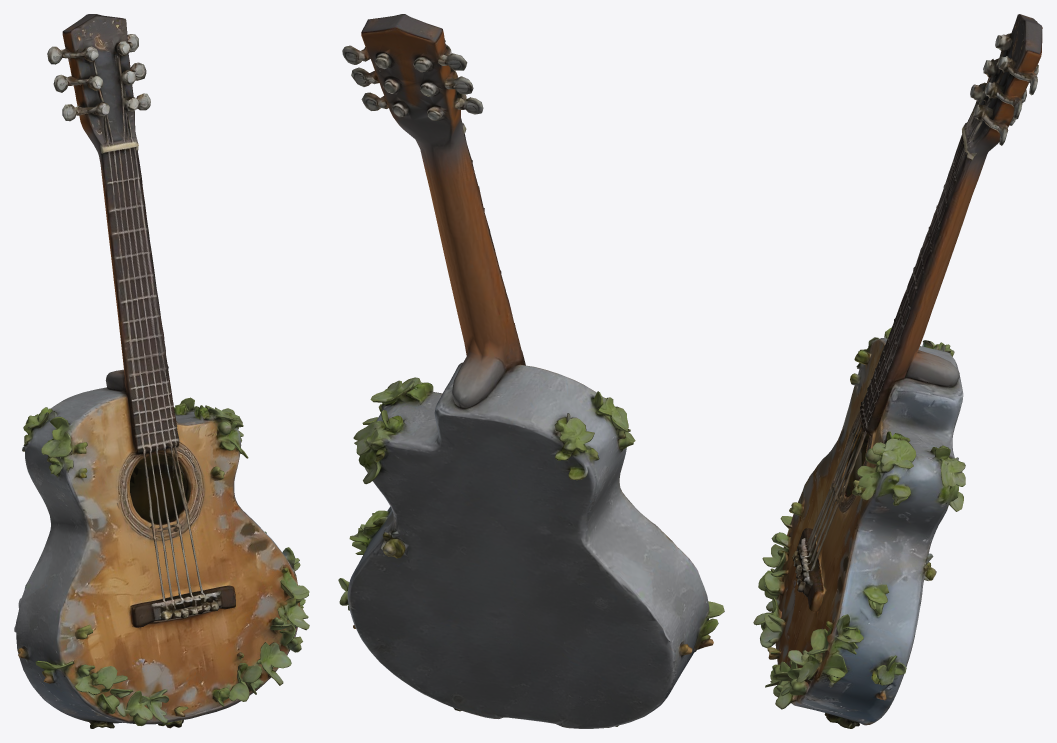
File: guitar.glb
The picture shows the model from 3 angles, left to right: view 1: azimuth 30°, elevation 25°; view 2: azimuth 150°, elevation 25°; view 3: azimuth 270°, elevation 25°; orthographic projection. The views are drawn at different scales.
Visible parts, largest first — view 1: tripo_node_4551f073-ae9a-4d5c-999d-b6be6f0abf95; view 2: tripo_node_4551f073-ae9a-4d5c-999d-b6be6f0abf95; view 3: tripo_node_4551f073-ae9a-4d5c-999d-b6be6f0abf95.
Boxes of the visible parts, x1,y1,x2,y2 form: tripo_node_4551f073-ae9a-4d5c-999d-b6be6f0abf95: (14,14,309,728); tripo_node_4551f073-ae9a-4d5c-999d-b6be6f0abf95: (338,14,724,728); tripo_node_4551f073-ae9a-4d5c-999d-b6be6f0abf95: (753,14,1042,728).
Bounding box in the file's own units: 0.4619 × 1 × 0.3814.
1 material, 1 textured.
